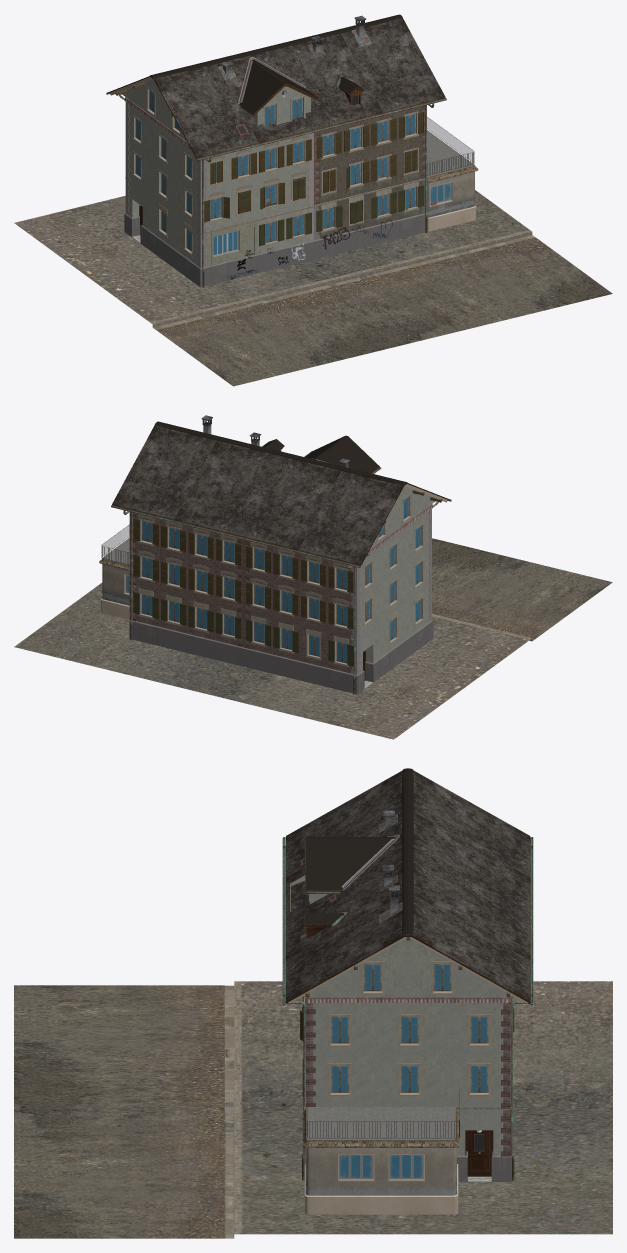
The picture shows the model from 3 angles, top to bottom: view 1: azimuth 30°, elevation 25°; view 2: azimuth 150°, elevation 25°; view 3: azimuth 270°, elevation 25°; orthographic projection. The views are drawn at different scales.
Parts seen in each view (by area): view 1: Ground_79, Roof_11, ShuttersLow_90, WallSideUpper_27, WallUpperLight_28, Base_5, WallUpperDark_32, WindowSimple.001_88, WindowOuterFrameFront_89, Wall26_108, Shutters_1stfloorLow_106, DormerRoof_17 (+22 smaller); view 2: Ground_79, Roof_11, WallUpperBrick_31, ShuttersLow_90, WallSideUpper_27, WindowSimple.001_88, Base_5, WallLowerBrick_30, WindowOuterFrameFront_89, Shutters_1stfloorLow_106, WallSideLower_29, Window.010_96 (+20 smaller); view 3: Ground_79, Roof_11, WallSideUpper_27, Wall26_108, Rooflet.001_109, WallSideTop_2, DormerRoof_17, Window.006_80, WindowOuterFrameSide_91, Window3Side_105, RoofTop_25, SideWallRoof_3 (+12 smaller).
Part boxes in pixels (x1=…): Ground_79: x1=14, y1=190, x2=612, y2=386; Roof_11: x1=107, y1=18, x2=445, y2=158; ShuttersLow_90: x1=204, y1=111, x2=423, y2=222; WallSideUpper_27: x1=128, y1=106, x2=197, y2=228; WallUpperLight_28: x1=205, y1=133, x2=309, y2=229; Base_5: x1=229, y1=219, x2=399, y2=280; WallUpperDark_32: x1=318, y1=106, x2=422, y2=202; WindowSimple.001_88: x1=210, y1=113, x2=415, y2=219; WindowOuterFrameFront_89: x1=209, y1=111, x2=418, y2=222; Wall26_108: x1=427, y1=171, x2=476, y2=231; Shutters_1stfloorLow_106: x1=259, y1=185, x2=424, y2=246; DormerRoof_17: x1=239, y1=59, x2=318, y2=116; Ground_79: x1=14, y1=538, x2=612, y2=739; Roof_11: x1=112, y1=425, x2=450, y2=565; WallUpperBrick_31: x1=134, y1=513, x2=352, y2=636; ShuttersLow_90: x1=133, y1=518, x2=353, y2=629; WallSideUpper_27: x1=359, y1=513, x2=428, y2=635; WindowSimple.001_88: x1=142, y1=520, x2=346, y2=626; Base_5: x1=158, y1=626, x2=328, y2=687; WallLowerBrick_30: x1=134, y1=585, x2=352, y2=673; WindowOuterFrameFront_89: x1=138, y1=518, x2=348, y2=629; Shutters_1stfloorLow_106: x1=161, y1=598, x2=298, y2=652; WallSideLower_29: x1=379, y1=587, x2=428, y2=657; Window.010_96: x1=169, y1=600, x2=319, y2=656; Ground_79: x1=14, y1=981, x2=612, y2=1238; Roof_11: x1=286, y1=771, x2=530, y2=1003; WallSideUpper_27: x1=313, y1=864, x2=510, y2=1105; Wall26_108: x1=304, y1=1147, x2=458, y2=1214; Rooflet.001_109: x1=302, y1=1107, x2=459, y2=1147; WallSideTop_2: x1=346, y1=813, x2=469, y2=1006; DormerRoof_17: x1=305, y1=837, x2=395, y2=892; Window.006_80: x1=331, y1=1016, x2=488, y2=1092; WindowOuterFrameSide_91: x1=328, y1=1014, x2=491, y2=1097; Window3Side_105: x1=339, y1=1154, x2=423, y2=1179; RoofTop_25: x1=402, y1=782, x2=413, y2=922; SideWallRoof_3: x1=304, y1=971, x2=512, y2=1006.
Size of the model in its own units: 37.4 by 18.98 by 37.4.
Materials: 8 (8 with a texture image).
